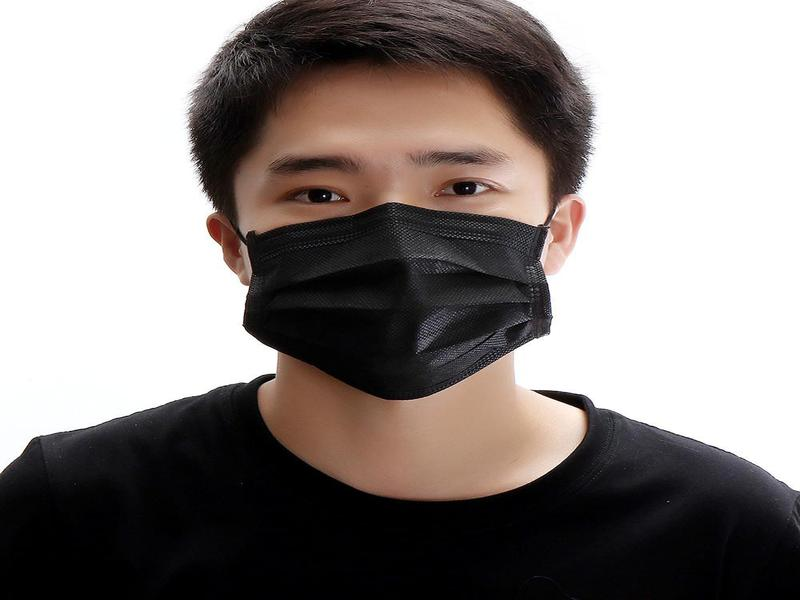with_mask: (235, 57, 562, 403)
